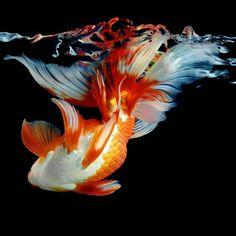goldfish: (12, 42, 204, 202)
